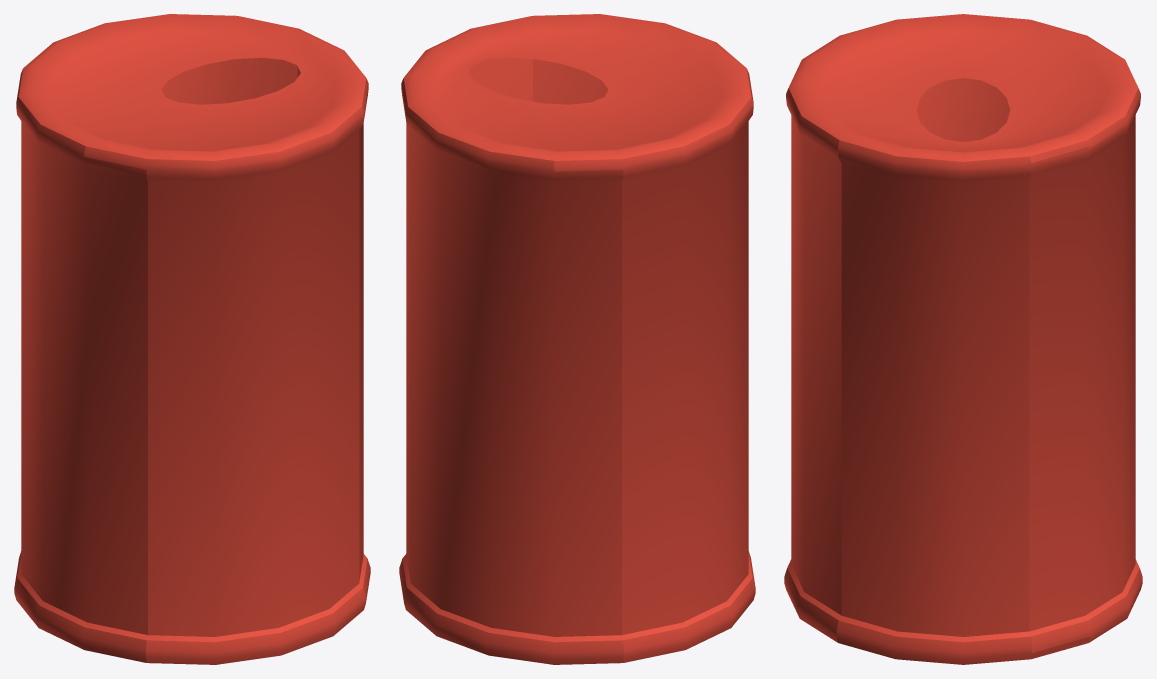
File: lata2.glb
3 views of the same model, side by side, from view 1: azimuth 30°, elevation 25°; view 2: azimuth 150°, elevation 25°; view 3: azimuth 270°, elevation 25° (orthographic).
Visible parts, largest first — view 1: Cylinder_garbage_0; view 2: Cylinder_garbage_0; view 3: Cylinder_garbage_0.
Part boxes in pixels (left/top/right/bottom): Cylinder_garbage_0: left=14, top=14, right=370, bottom=664; Cylinder_garbage_0: left=399, top=14, right=755, bottom=664; Cylinder_garbage_0: left=784, top=14, right=1142, bottom=664.
Size of the model in its own units: 2.82 by 4.42 by 2.82.
